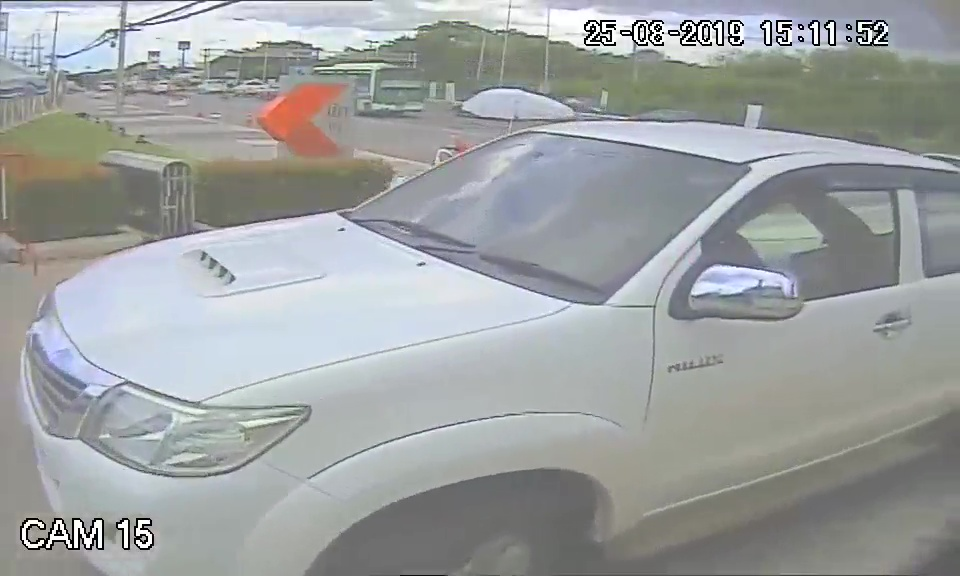pickup: (14, 115, 952, 558)
